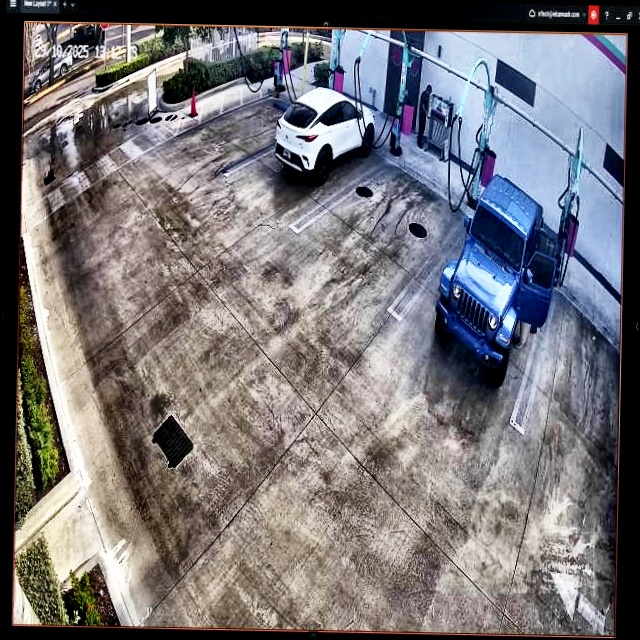Car: (427, 172, 559, 379), (271, 82, 377, 182)
